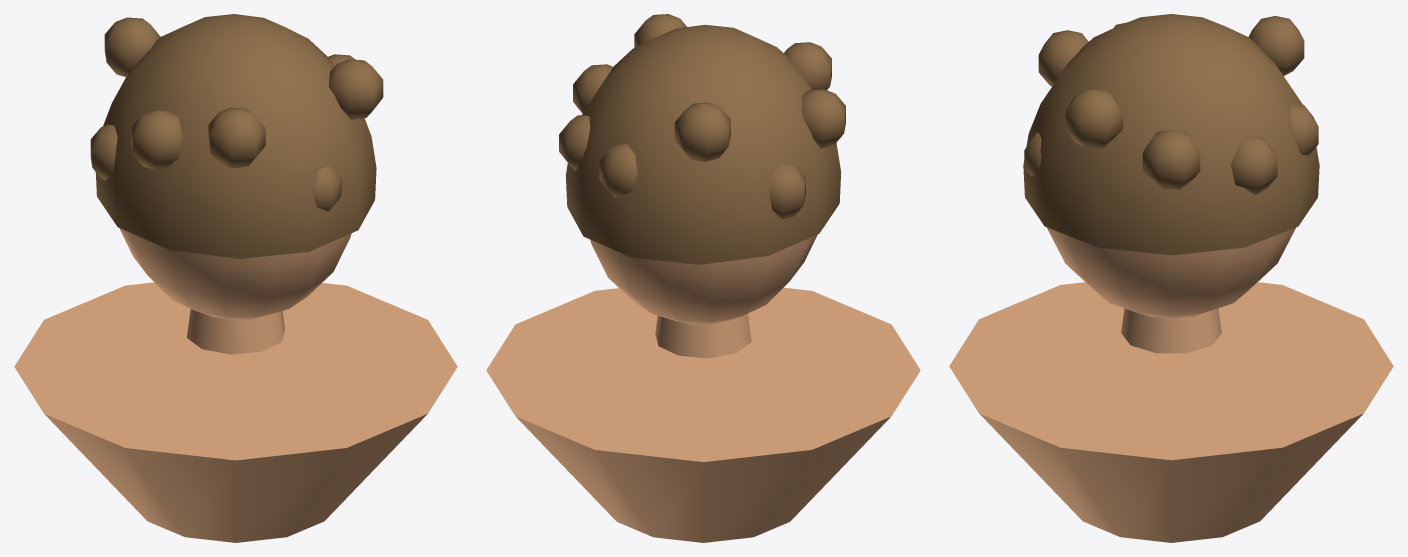
File: raw_003.glb
3 renders of one model, left to right at view 1: azimuth 30°, elevation 25°; view 2: azimuth 150°, elevation 25°; view 3: azimuth 270°, elevation 25°, orthographic. The views are drawn at different scales.
Bounding box in the file's own units: 1.85 × 2.18 × 1.85.
